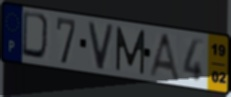4: (181, 37, 205, 85)
7: (55, 15, 76, 66)
A: (146, 31, 181, 82)
D: (20, 9, 53, 63)
M: (115, 25, 147, 76)
V: (87, 20, 116, 72)
